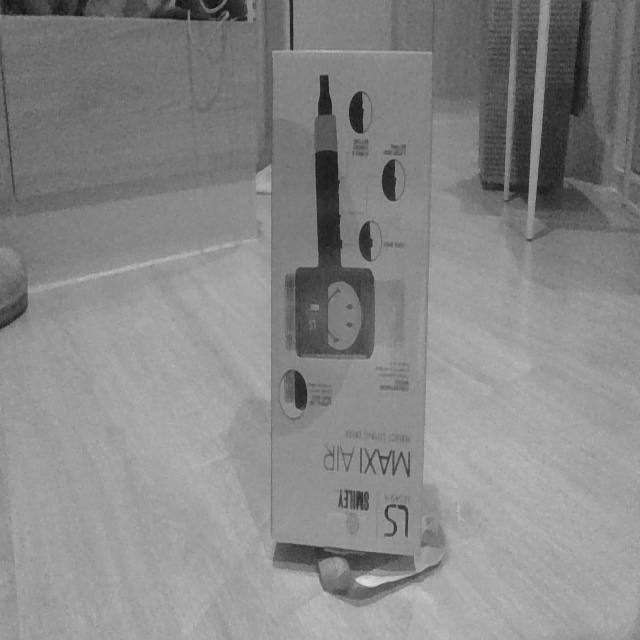IRON: (267, 45, 435, 567)
